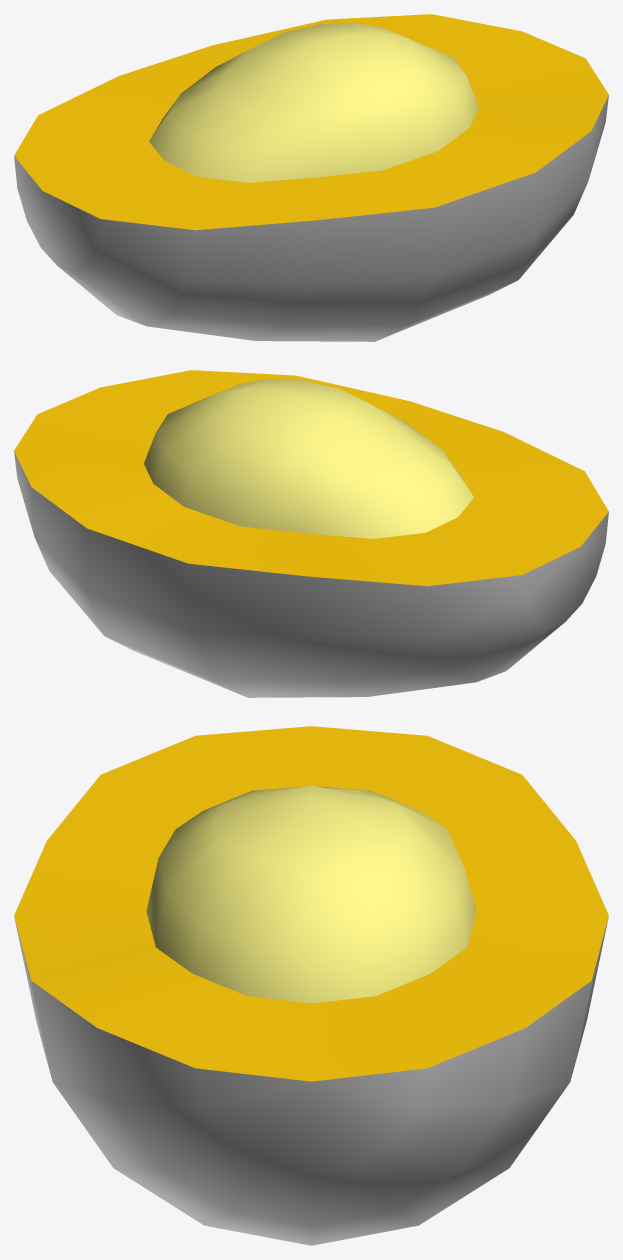
Rendered from mango-semi.fbx.
3 views of the same model, one above another, from view 1: azimuth 30°, elevation 25°; view 2: azimuth 150°, elevation 25°; view 3: azimuth 270°, elevation 25° (orthographic). The views are drawn at different scales.
Visible parts, largest first — view 1: mango-semi; view 2: mango-semi; view 3: mango-semi.
Part boxes in pixels (x1=…): mango-semi: x1=14, y1=14, x2=608, y2=341; mango-semi: x1=14, y1=370, x2=608, y2=697; mango-semi: x1=14, y1=726, x2=608, y2=1245.
Size of the model in its own units: 277 by 140 by 196.
